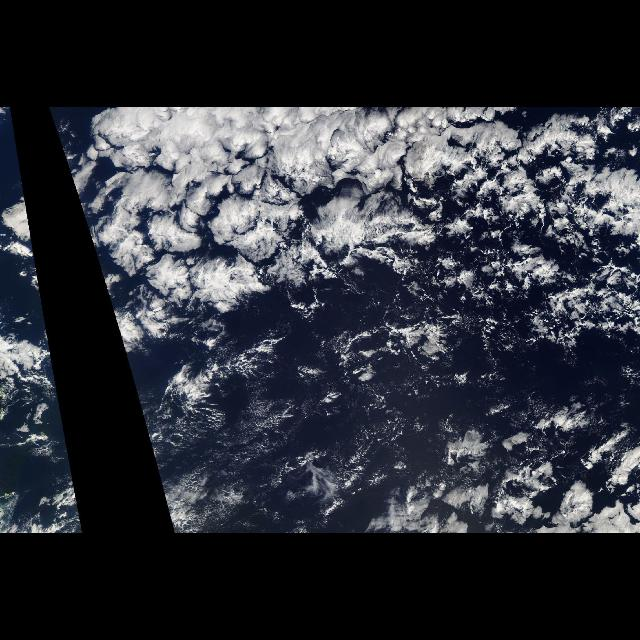Flower: (49, 115, 639, 531), (17, 146, 51, 348)
Gravel: (370, 127, 640, 356)
Sugar: (142, 371, 392, 533)
